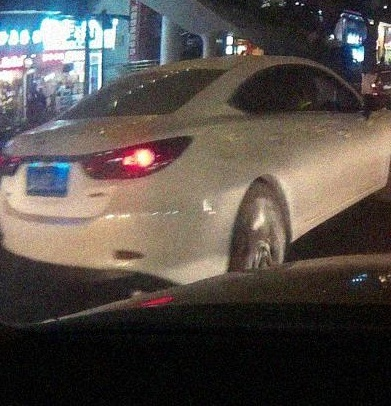L_light: (0, 152, 22, 177)
R_light: (82, 134, 193, 180)
T_light: (144, 71, 168, 78)
night-right: (0, 53, 233, 287)
